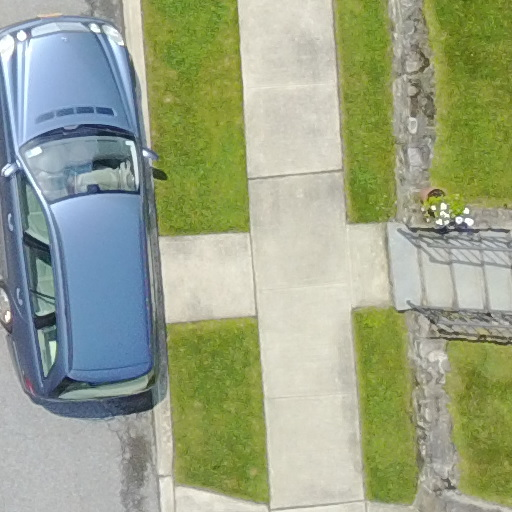flower pot: (423, 182, 459, 223)
